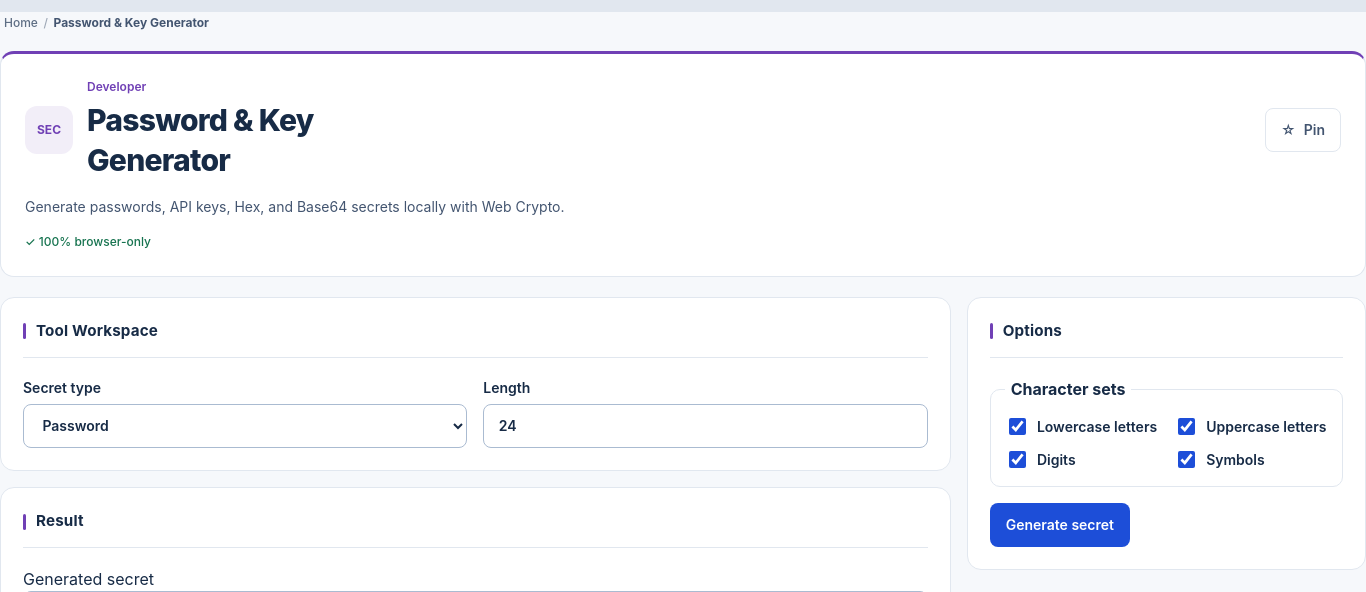
Scenario: SecretGeneratorPage › associates an actionable error when every password character set is disabled
Click the checkbox labelled "Lowercase letters" at (1018, 427), box 1009,418 -> 1026,435
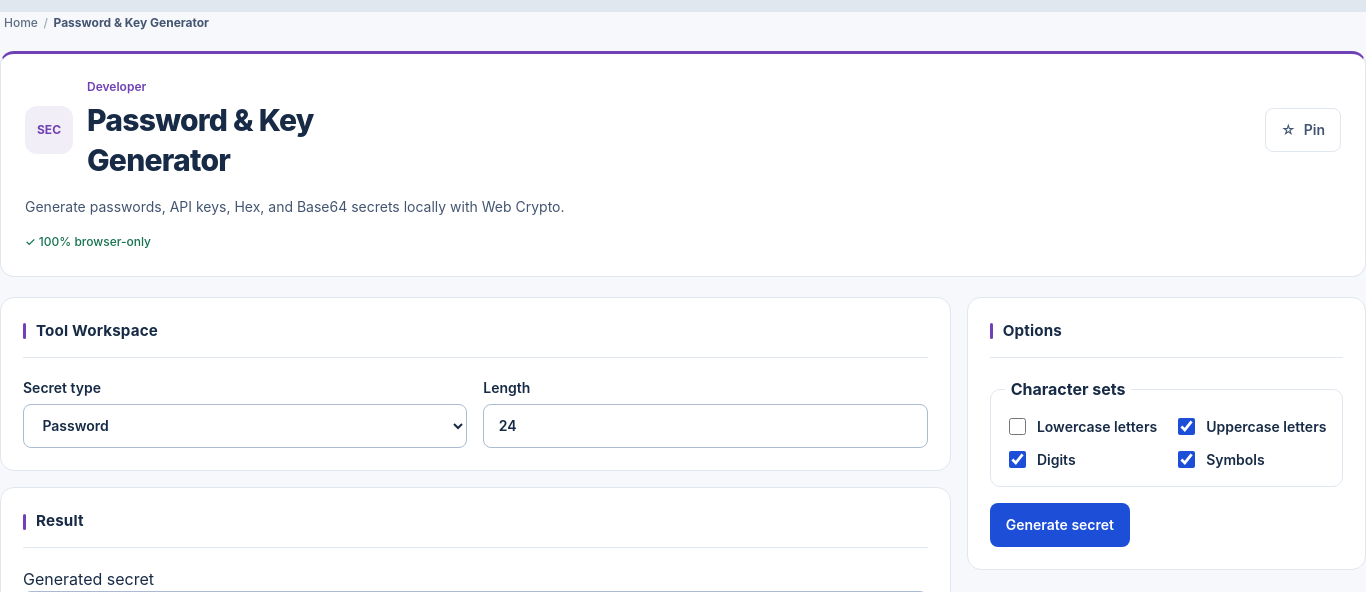
Click the checkbox labelled "Uppercase letters" at (1187, 427), box 1178,418 -> 1195,435
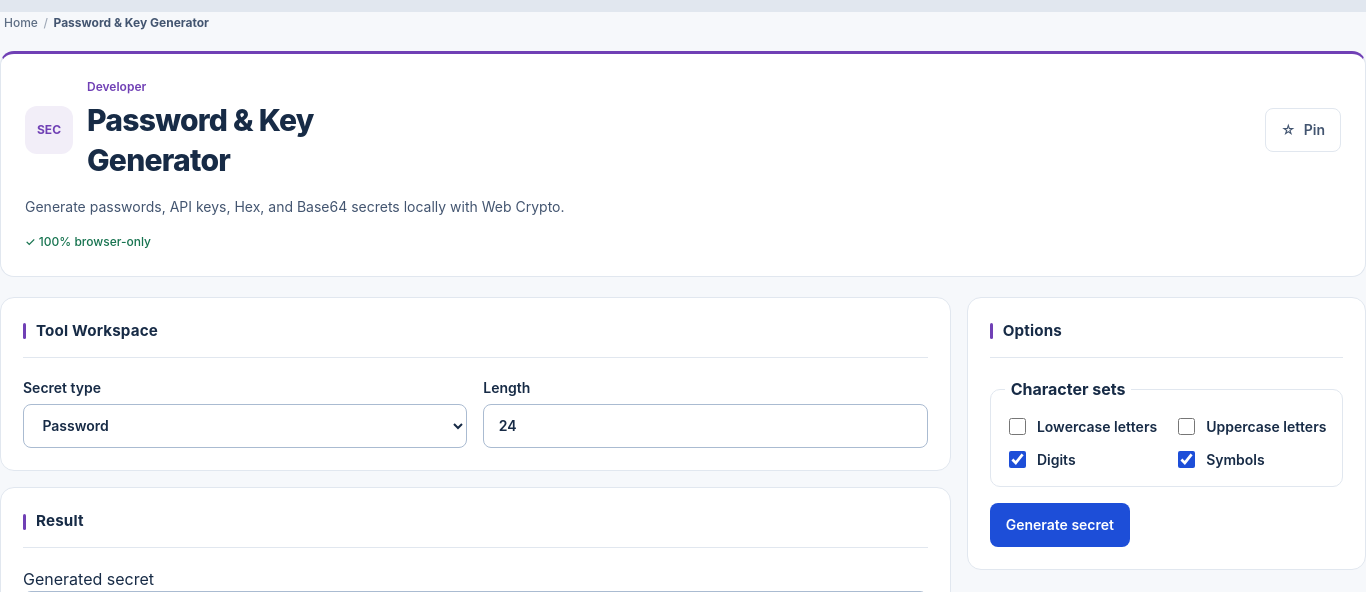
Click the checkbox labelled "Digits" at (1018, 460), box 1009,452 -> 1026,468
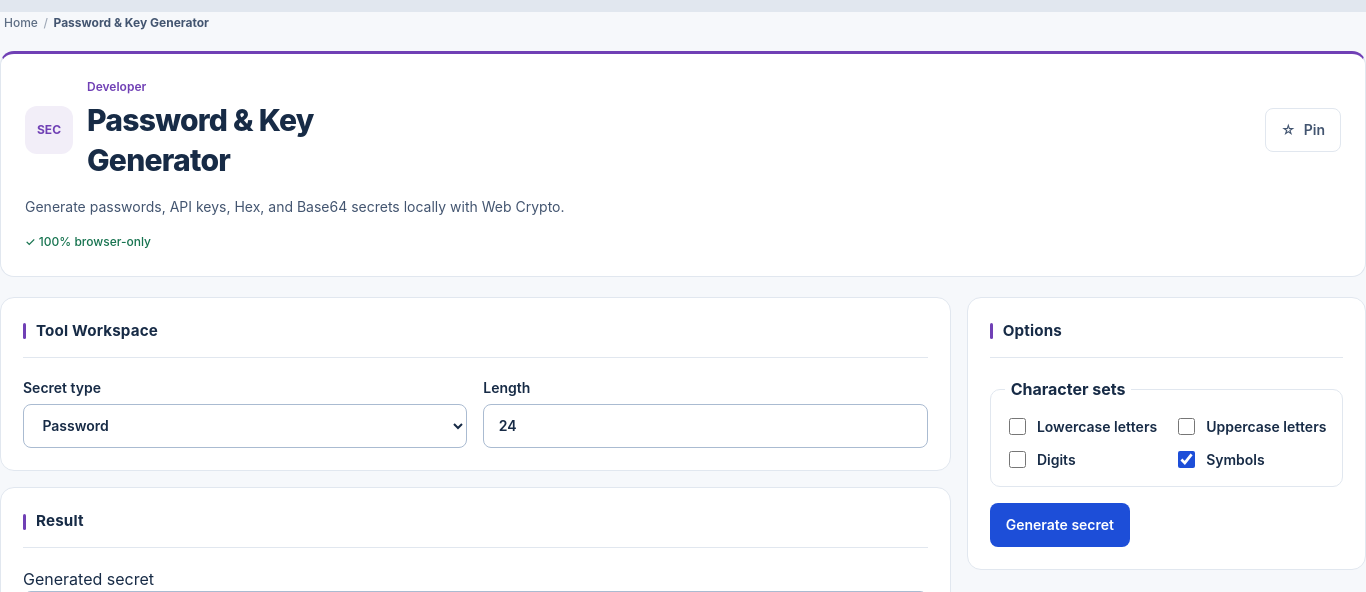
Click the checkbox labelled "Symbols" at (1187, 460), box 1178,452 -> 1195,468
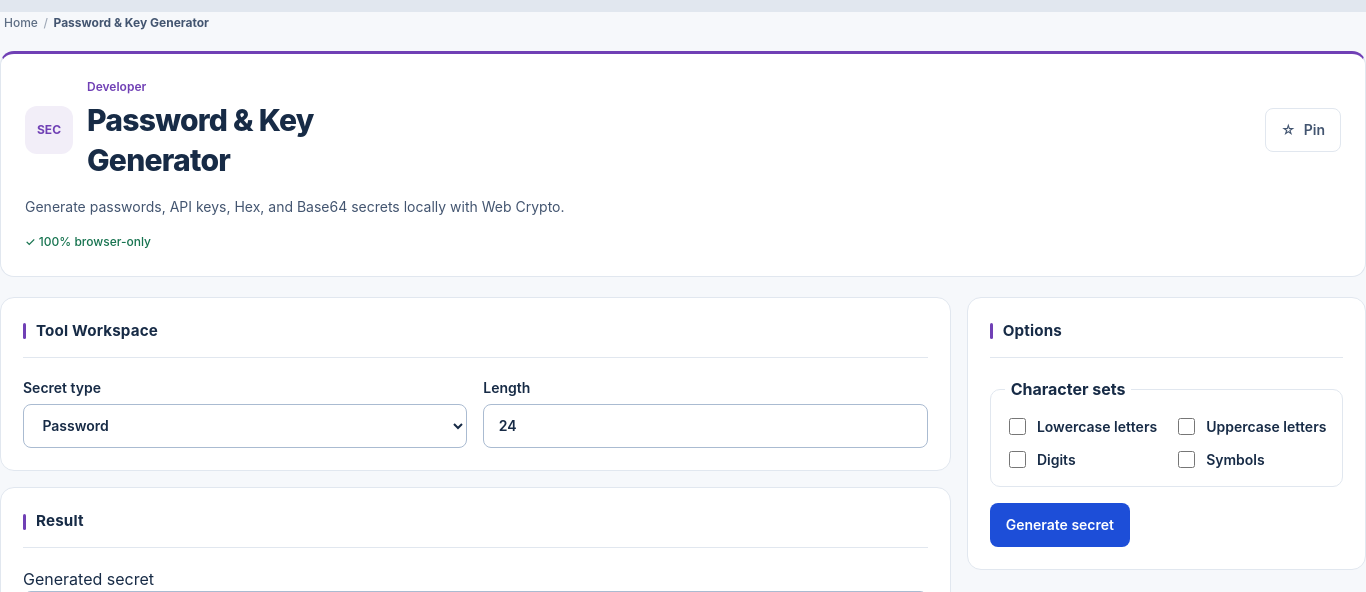
Click the button "Generate secret" at (1060, 525), box 990,503 -> 1130,547
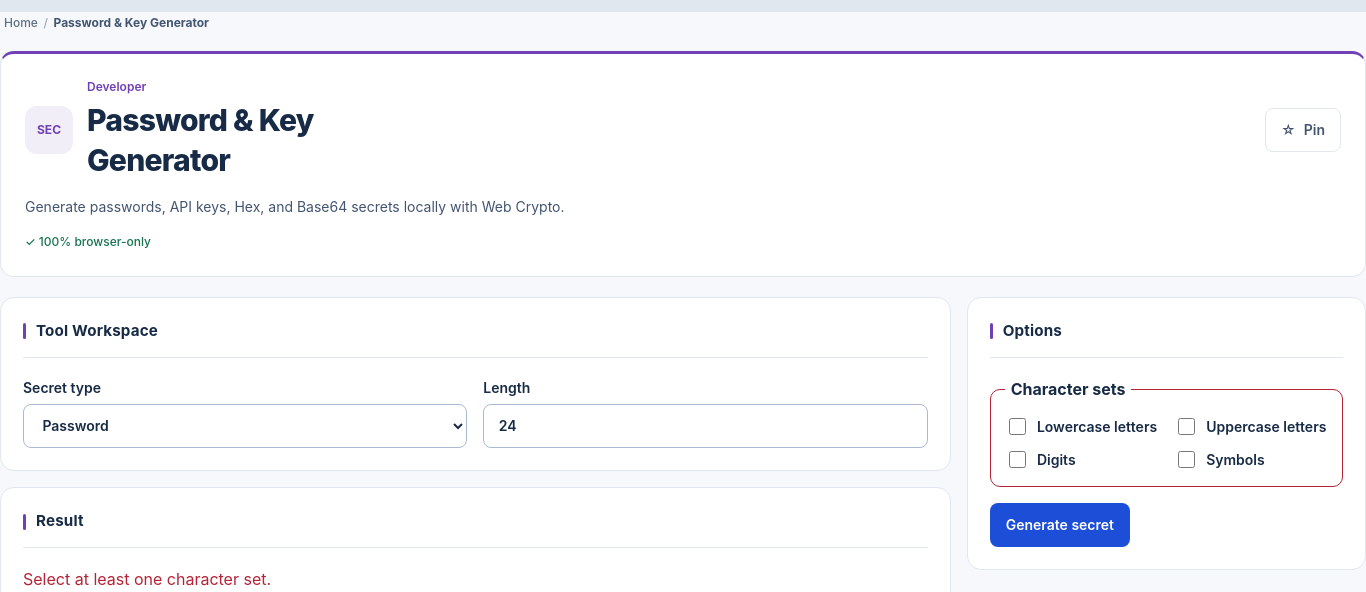
Expected: the message reads "Select at least one character set.", 23,569 -> 271,589
